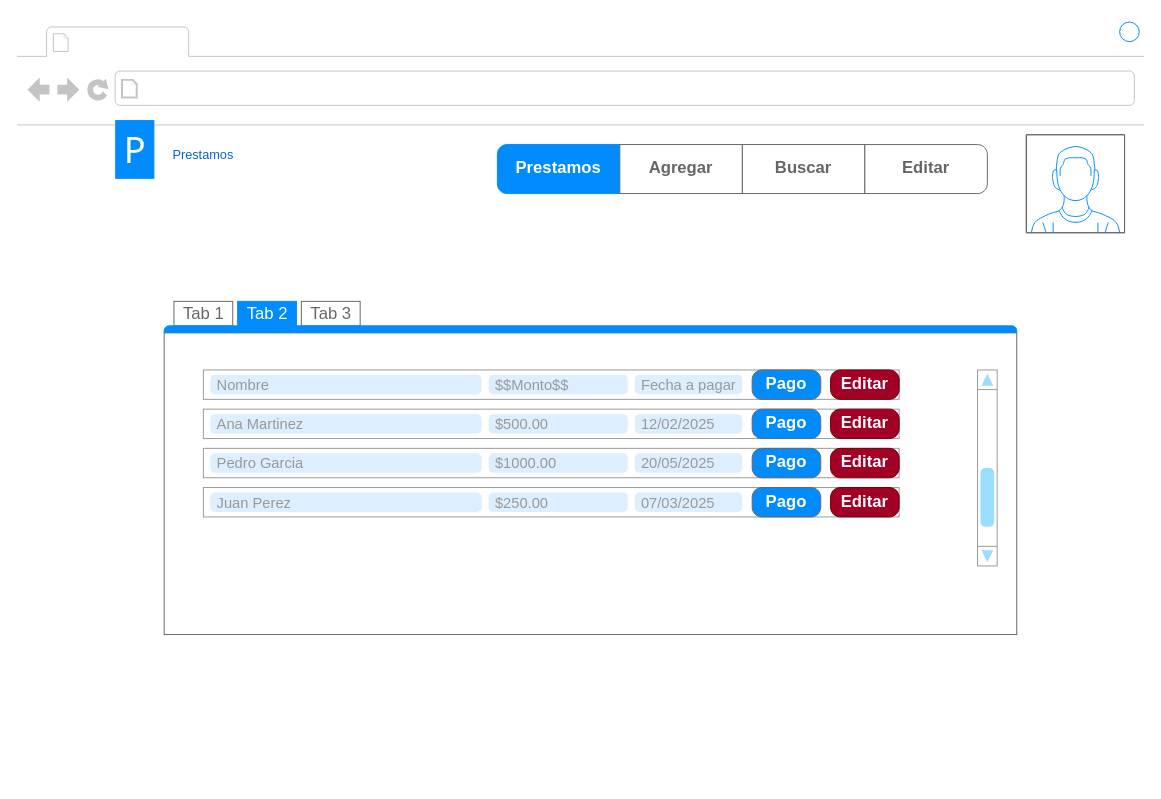
Some shapes in this 1161 by 799 pixel diagram are drawn without their labels. Each missing label, with the centre of its shape:
"https://192.168.1.1" belongs at [267,88].
"Usuario" belongs at [1075,183].
"WebApp" belongs at [129,41].
